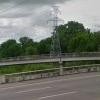Bridge: (2, 43, 94, 87)
